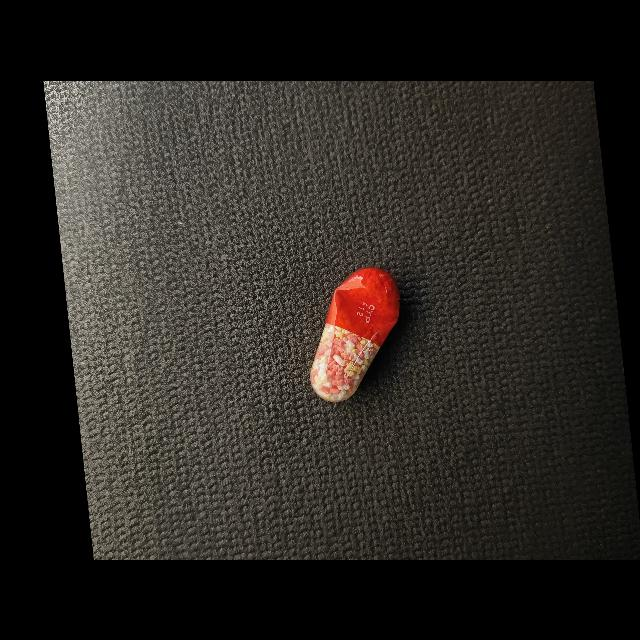Defective Capsule: (310, 267, 400, 401)
